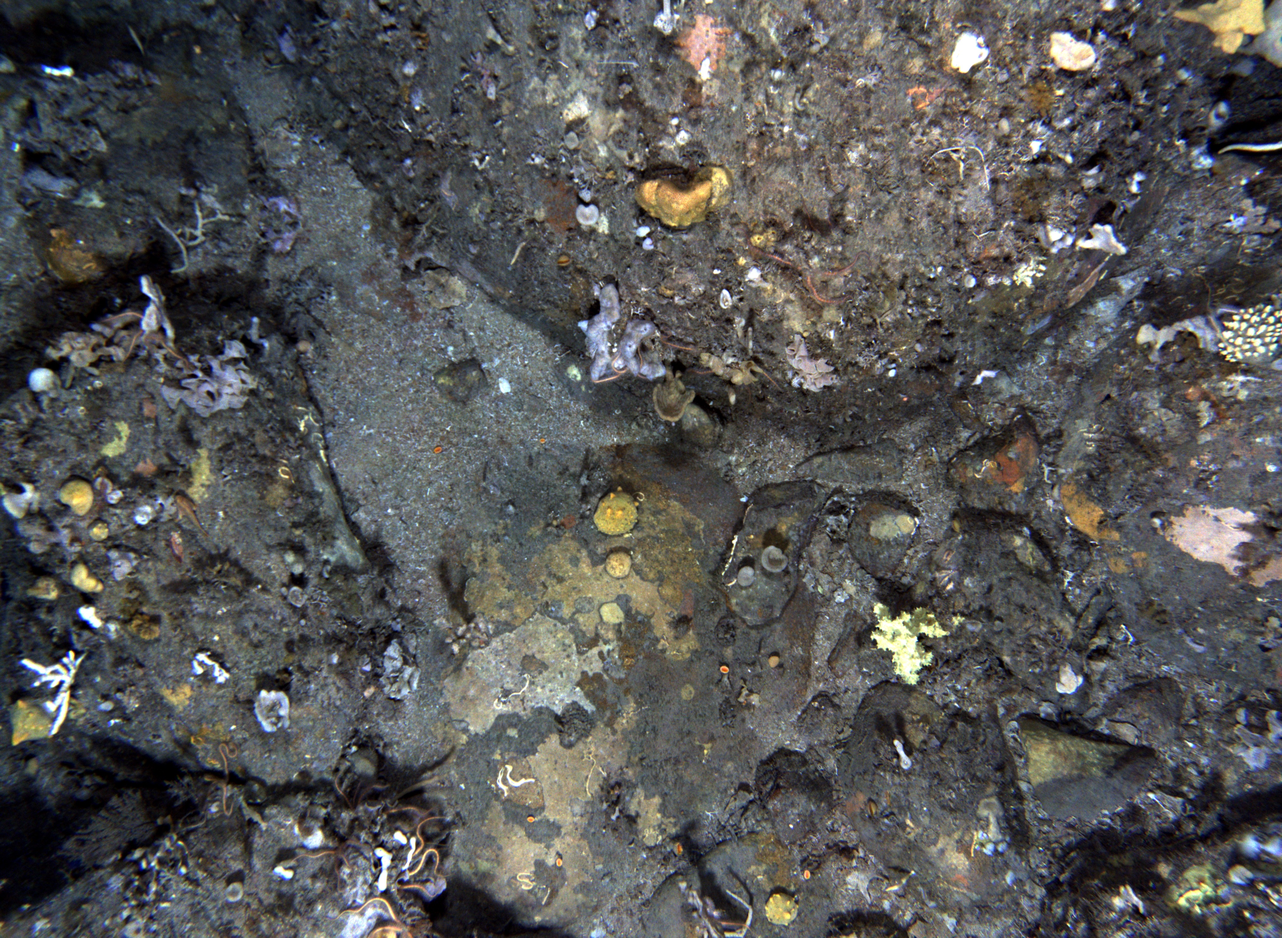Brachionichthyidae: (172, 493, 211, 538)
